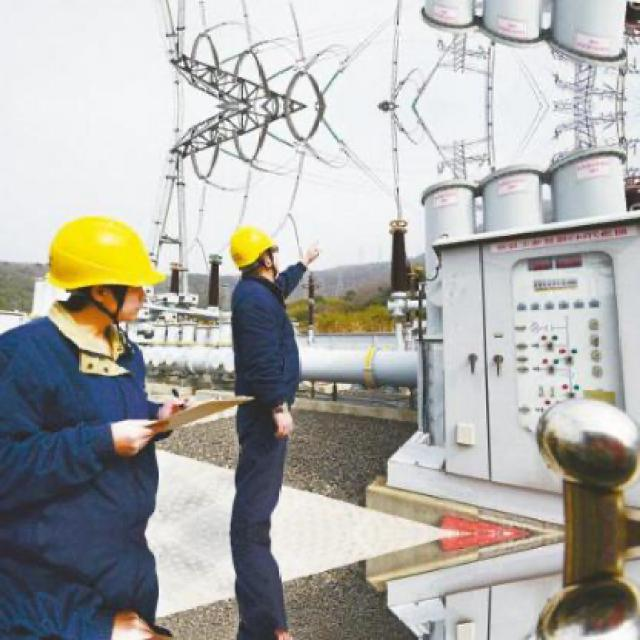helmet: (37, 205, 161, 336), (226, 219, 282, 281)
